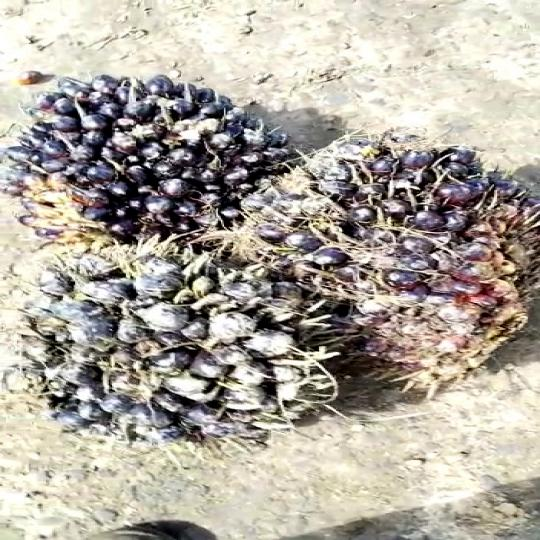mentah: (19, 242, 381, 428), (271, 146, 540, 376), (13, 65, 266, 237)
